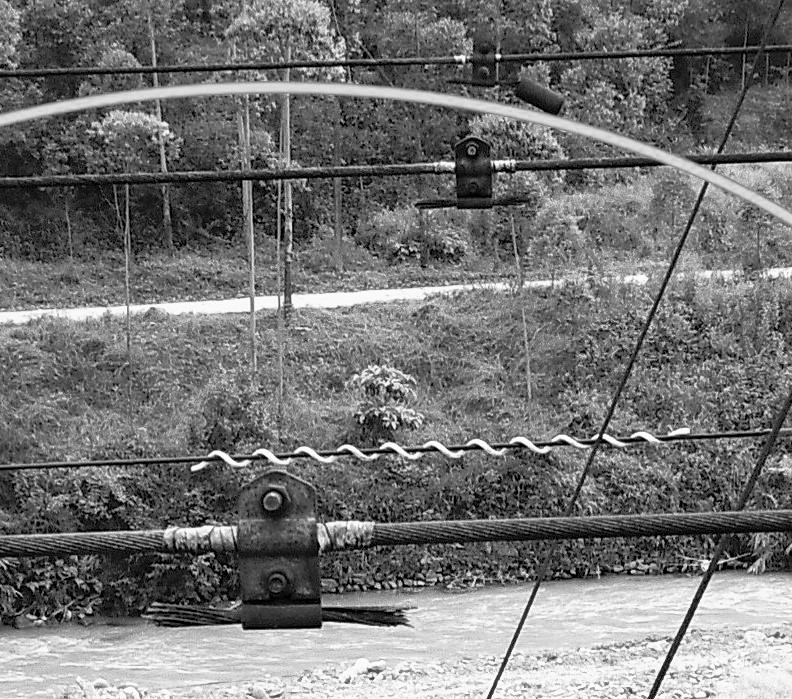Damage of shockproof hammer: (127, 461, 426, 635), (408, 130, 553, 219)
